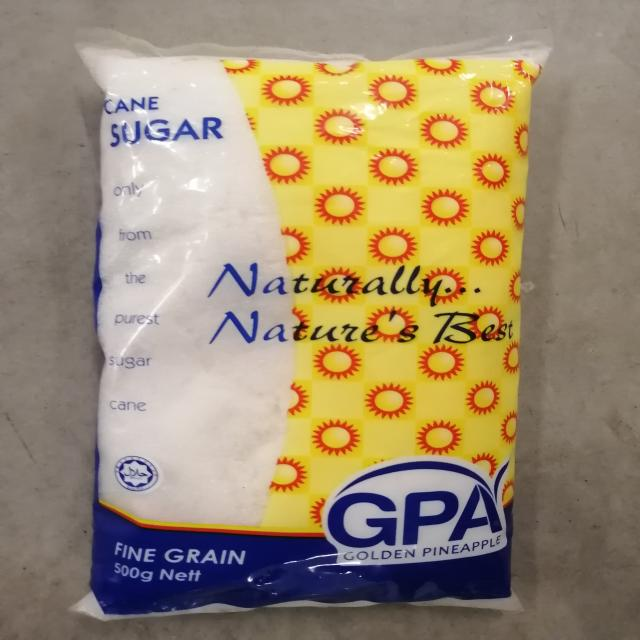object_name: (97, 44, 515, 613)
